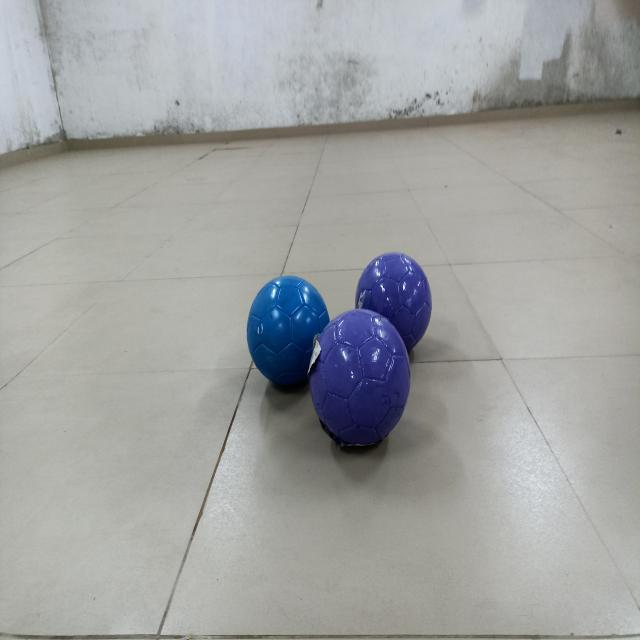blue_ball: (250, 278, 328, 391)
purple_ball: (315, 310, 408, 442), (352, 251, 432, 346)
